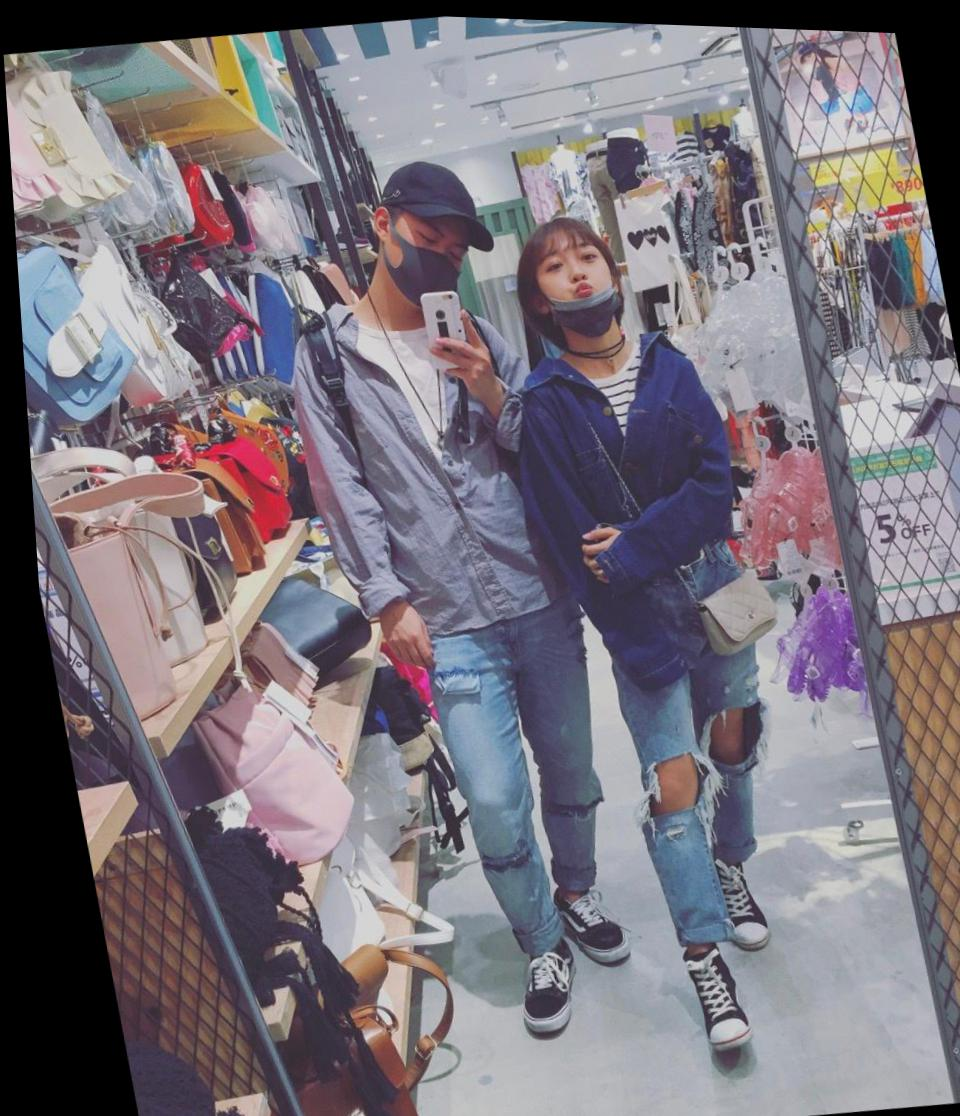OK: (379, 214, 468, 308)
WRONG: (525, 237, 619, 329)
